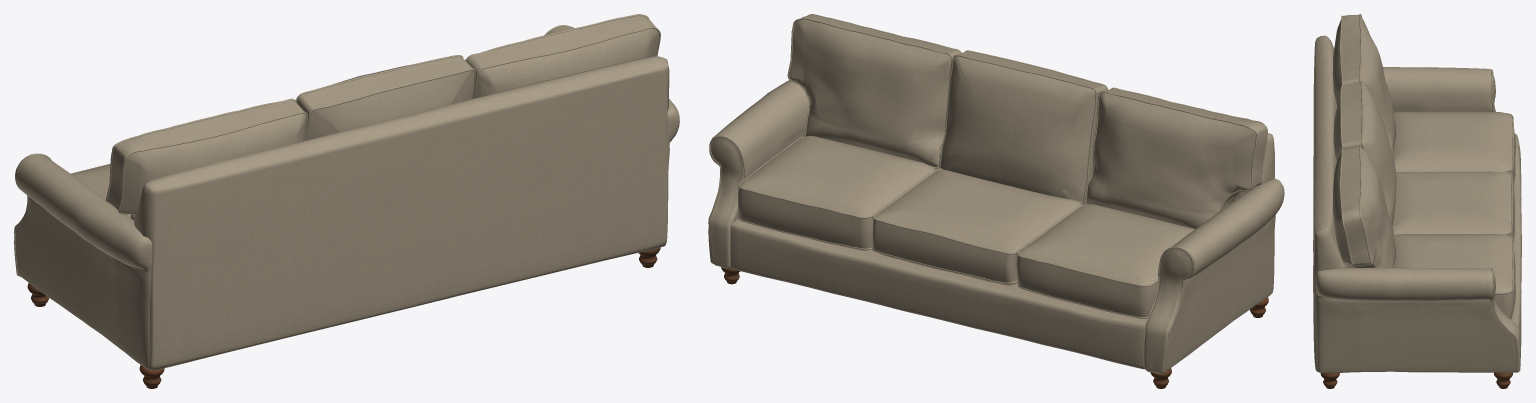
The model's file is abo_B07P8ST9TY.glb.
3 views of the same model, side by side, from view 1: azimuth 30°, elevation 25°; view 2: azimuth 150°, elevation 25°; view 3: azimuth 270°, elevation 25° (orthographic). The views are drawn at different scales.
Visible parts, largest first — view 1: RootNode; view 2: RootNode; view 3: RootNode.
Boxes of the visible parts, bbox=[...] form: RootNode: bbox=[14, 14, 679, 388]; RootNode: bbox=[708, 14, 1284, 388]; RootNode: bbox=[1313, 14, 1521, 388].
Bounding box in the file's own units: 2.35 × 0.9479 × 0.9658.
1 material, 1 textured.
